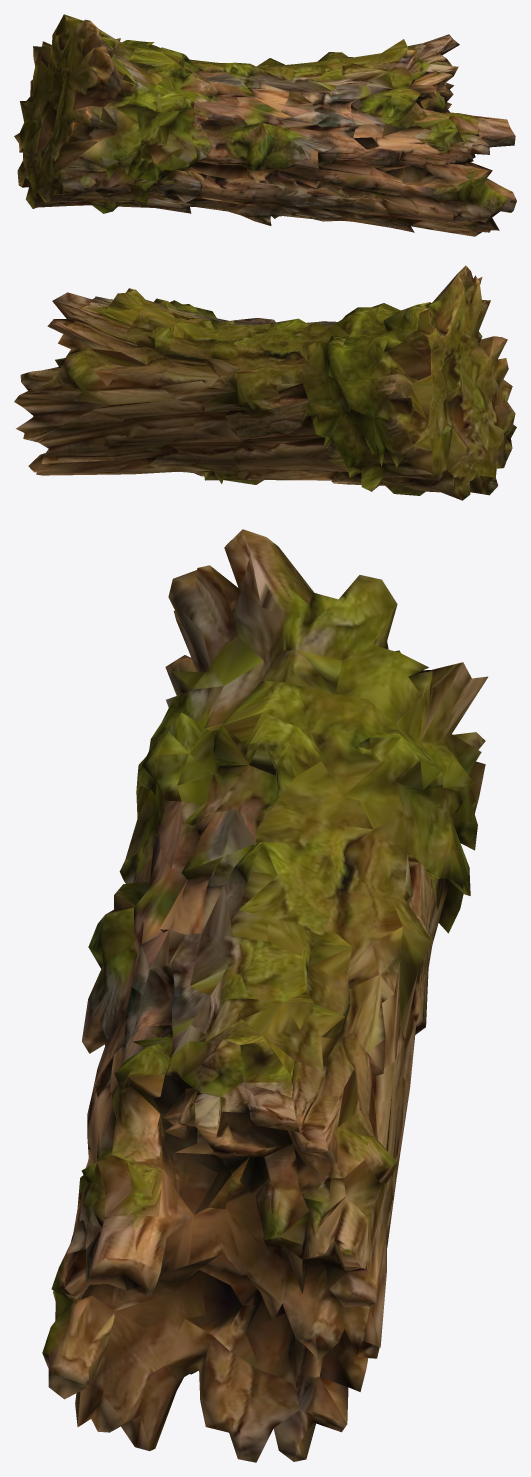
The model's file is mossylog.glb.
3 views of the same model, one above another, from view 1: azimuth 30°, elevation 25°; view 2: azimuth 150°, elevation 25°; view 3: azimuth 270°, elevation 25° (orthographic). The views are drawn at different scales.
Parts seen in each view (by area): view 1: mossylog; view 2: mossylog; view 3: mossylog.
Boxes of the visible parts, left/top/right/bottom form: mossylog: left=14, top=14, right=516, bottom=236; mossylog: left=14, top=265, right=516, bottom=500; mossylog: left=42, top=529, right=487, bottom=1462.
Bounding box in the file's own units: 0.9773 × 0.6126 × 0.436.
1 material, 1 textured.
